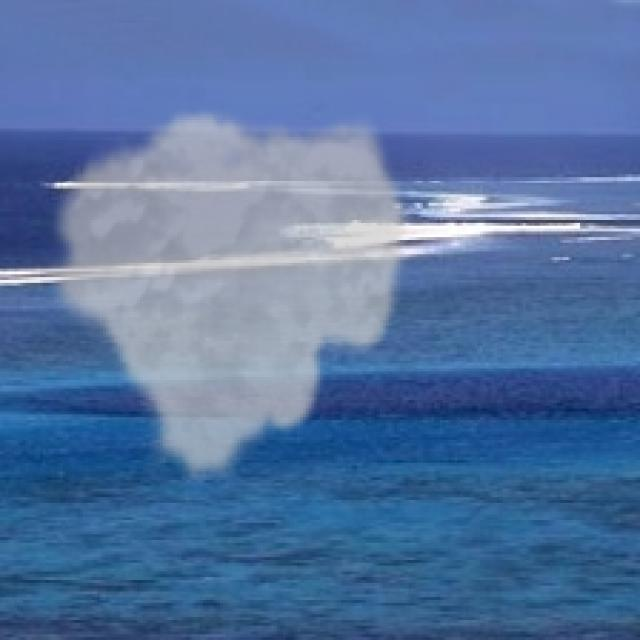Smoke: (42, 106, 414, 486)
